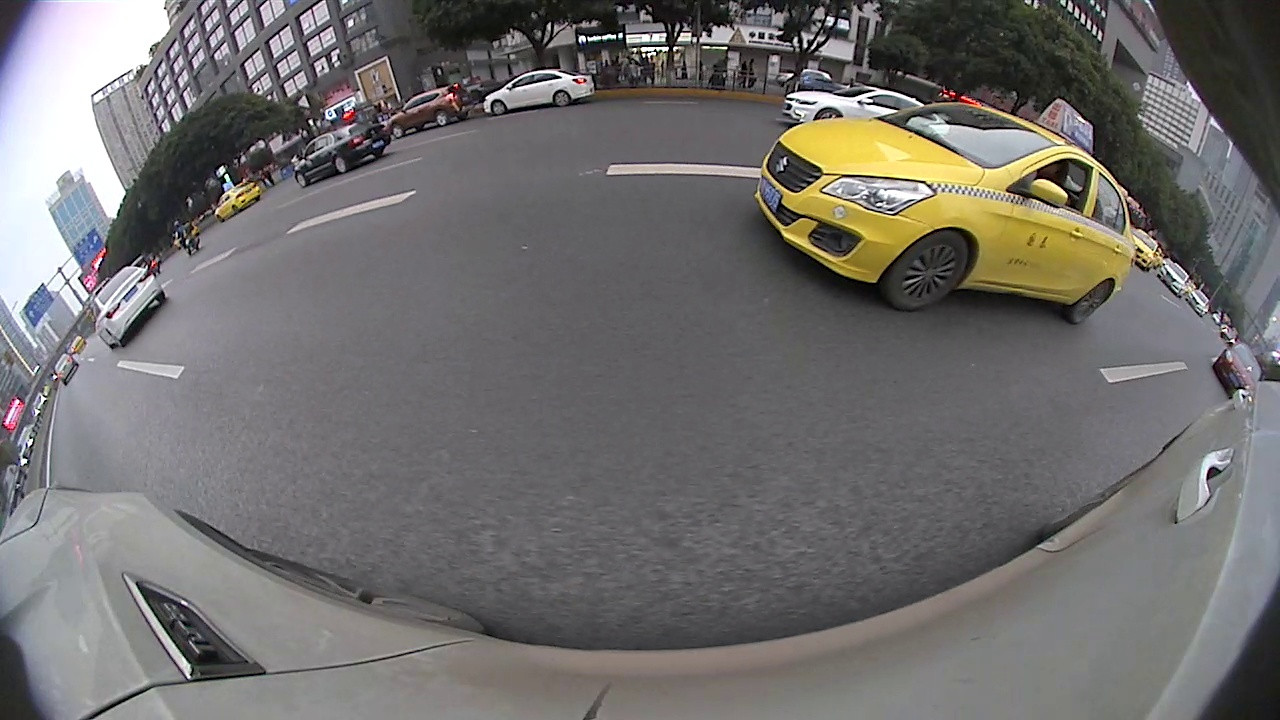car: (755, 101, 1130, 328), (781, 84, 930, 134), (91, 265, 166, 353), (293, 123, 391, 190), (484, 68, 593, 117), (390, 83, 476, 138), (1212, 341, 1263, 400), (212, 180, 262, 223), (1156, 262, 1189, 301)
front: (884, 231, 968, 311), (493, 100, 504, 116), (391, 126, 404, 137), (297, 173, 307, 187)
rear: (1067, 281, 1116, 323), (334, 156, 348, 172), (555, 92, 570, 106), (437, 111, 447, 124)
rider: (175, 221, 202, 257)
